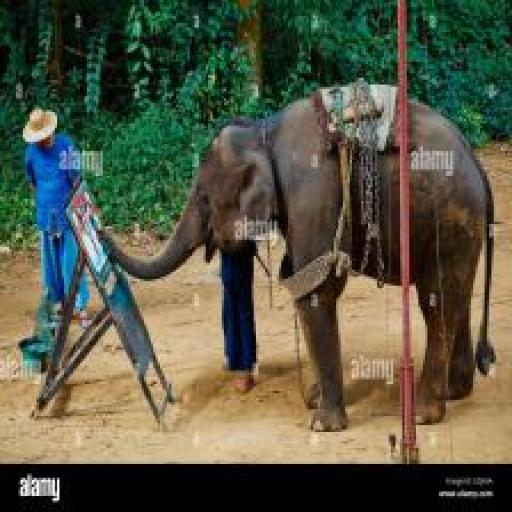Elephant: (103, 108, 505, 452)
